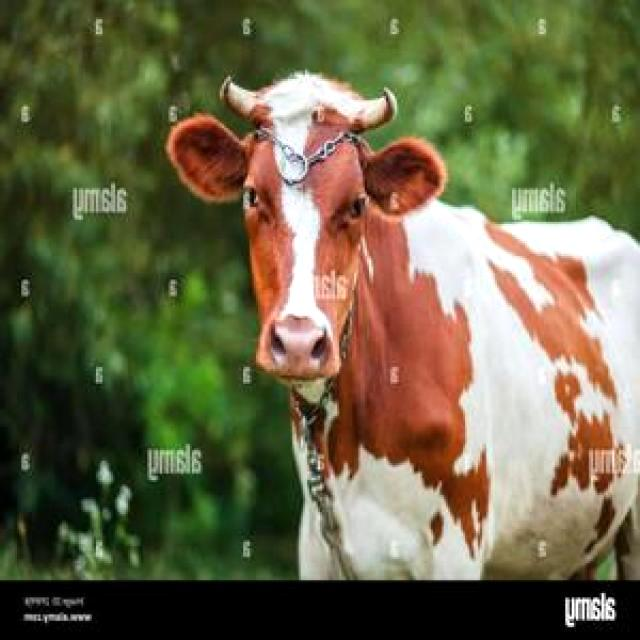COW: (168, 72, 640, 579)
